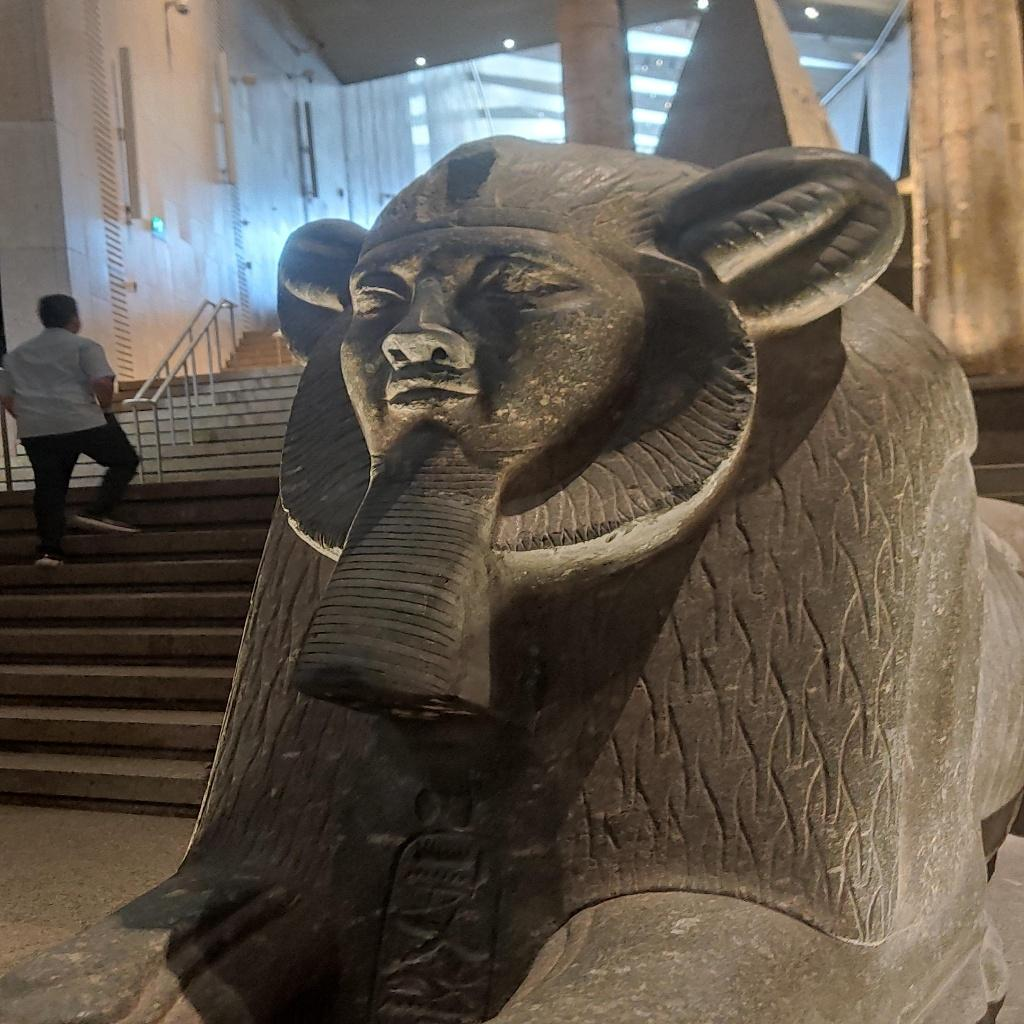Sphinx of Amenmhat III: (268, 130, 908, 725)
